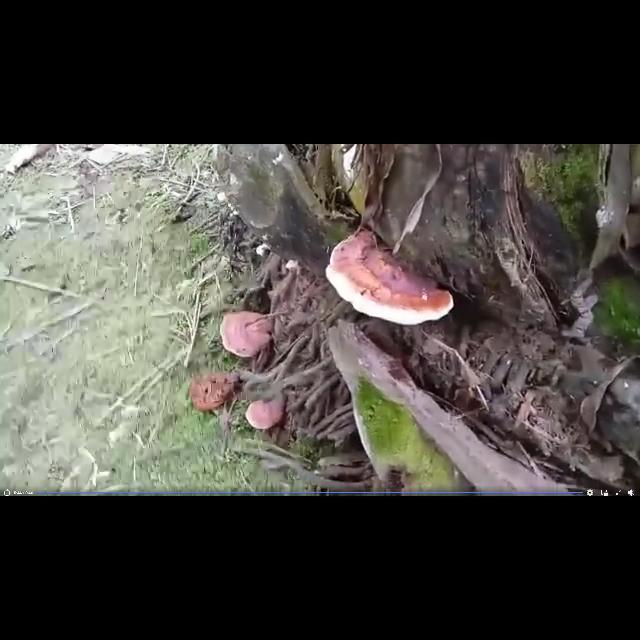ganoderma: (324, 231, 458, 330), (218, 312, 278, 361), (245, 392, 289, 435)
